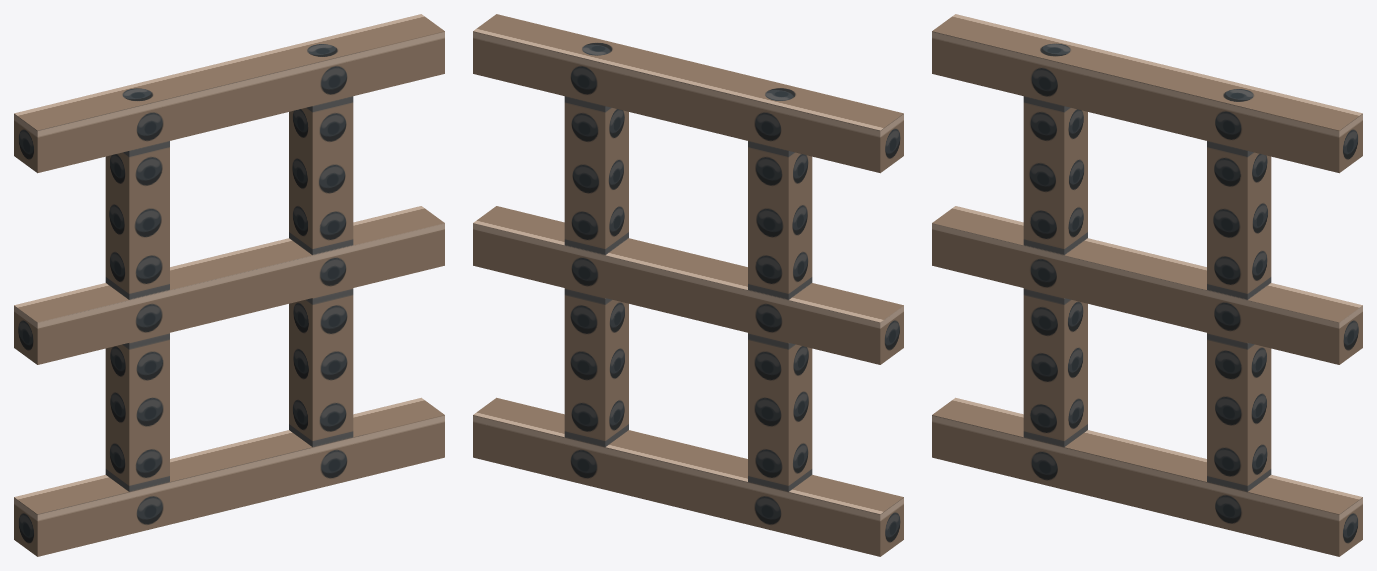
File: PortcullisTop_v1.0.fbx
3 views of the same model, side by side, from view 1: azimuth 30°, elevation 25°; view 2: azimuth 150°, elevation 25°; view 3: azimuth 330°, elevation 25° (orthographic).
Parts seen in each view (by area): view 1: Tile_Main.071; view 2: Tile_Main.071; view 3: Tile_Main.071.
Part boxes in pixels (left/top/right/bottom): Tile_Main.071: left=14, top=14, right=444, bottom=556; Tile_Main.071: left=473, top=14, right=903, bottom=556; Tile_Main.071: left=932, top=14, right=1362, bottom=556.
Size of the model in its own units: 100 by 10 by 100.
